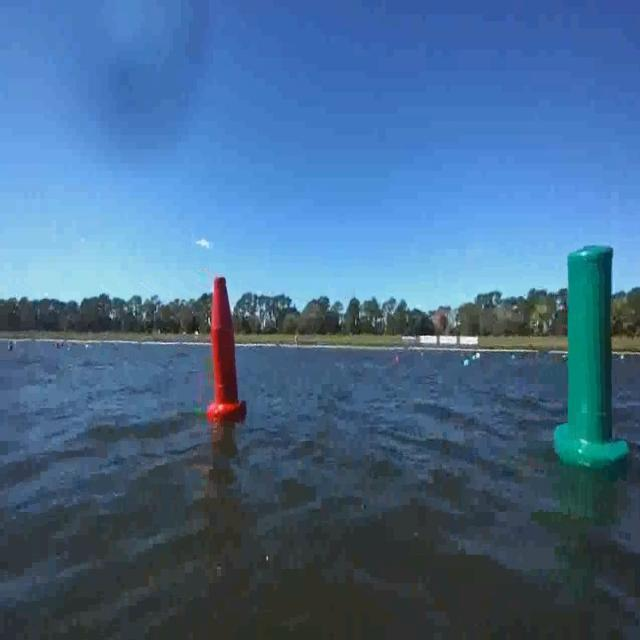green-column-buoy: (552, 244, 625, 467)
red-column-buoy: (207, 272, 246, 423)
